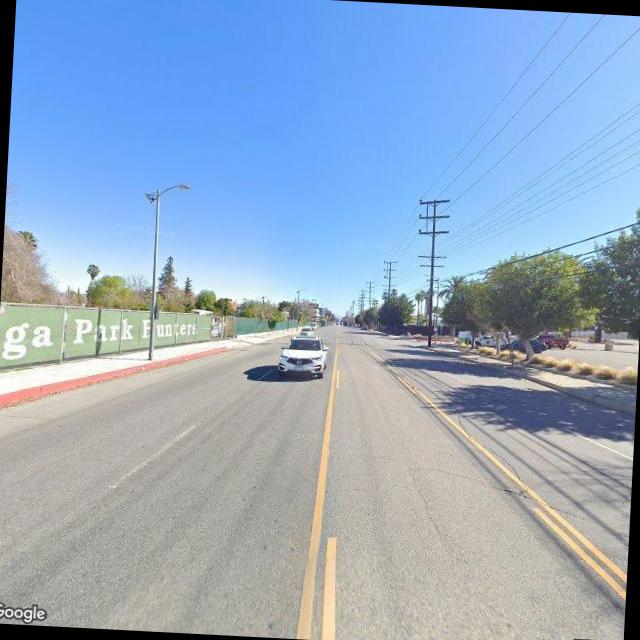crack: (440, 394, 538, 492), (406, 460, 532, 497)
